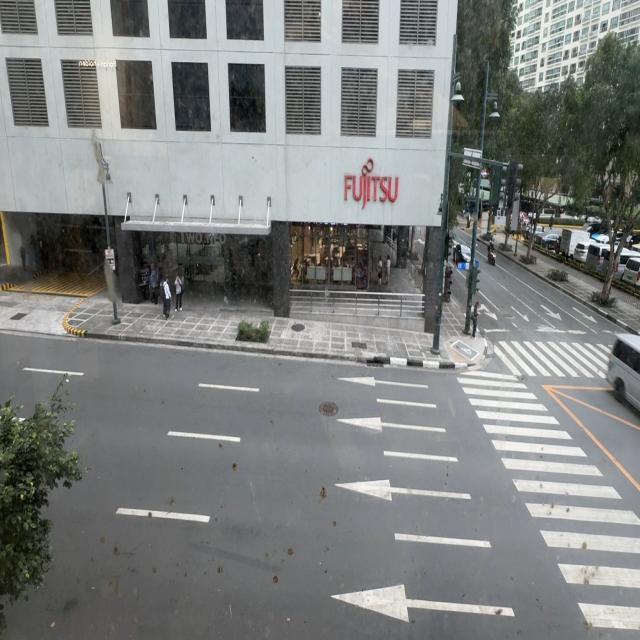waiting: (472, 300, 482, 336)
